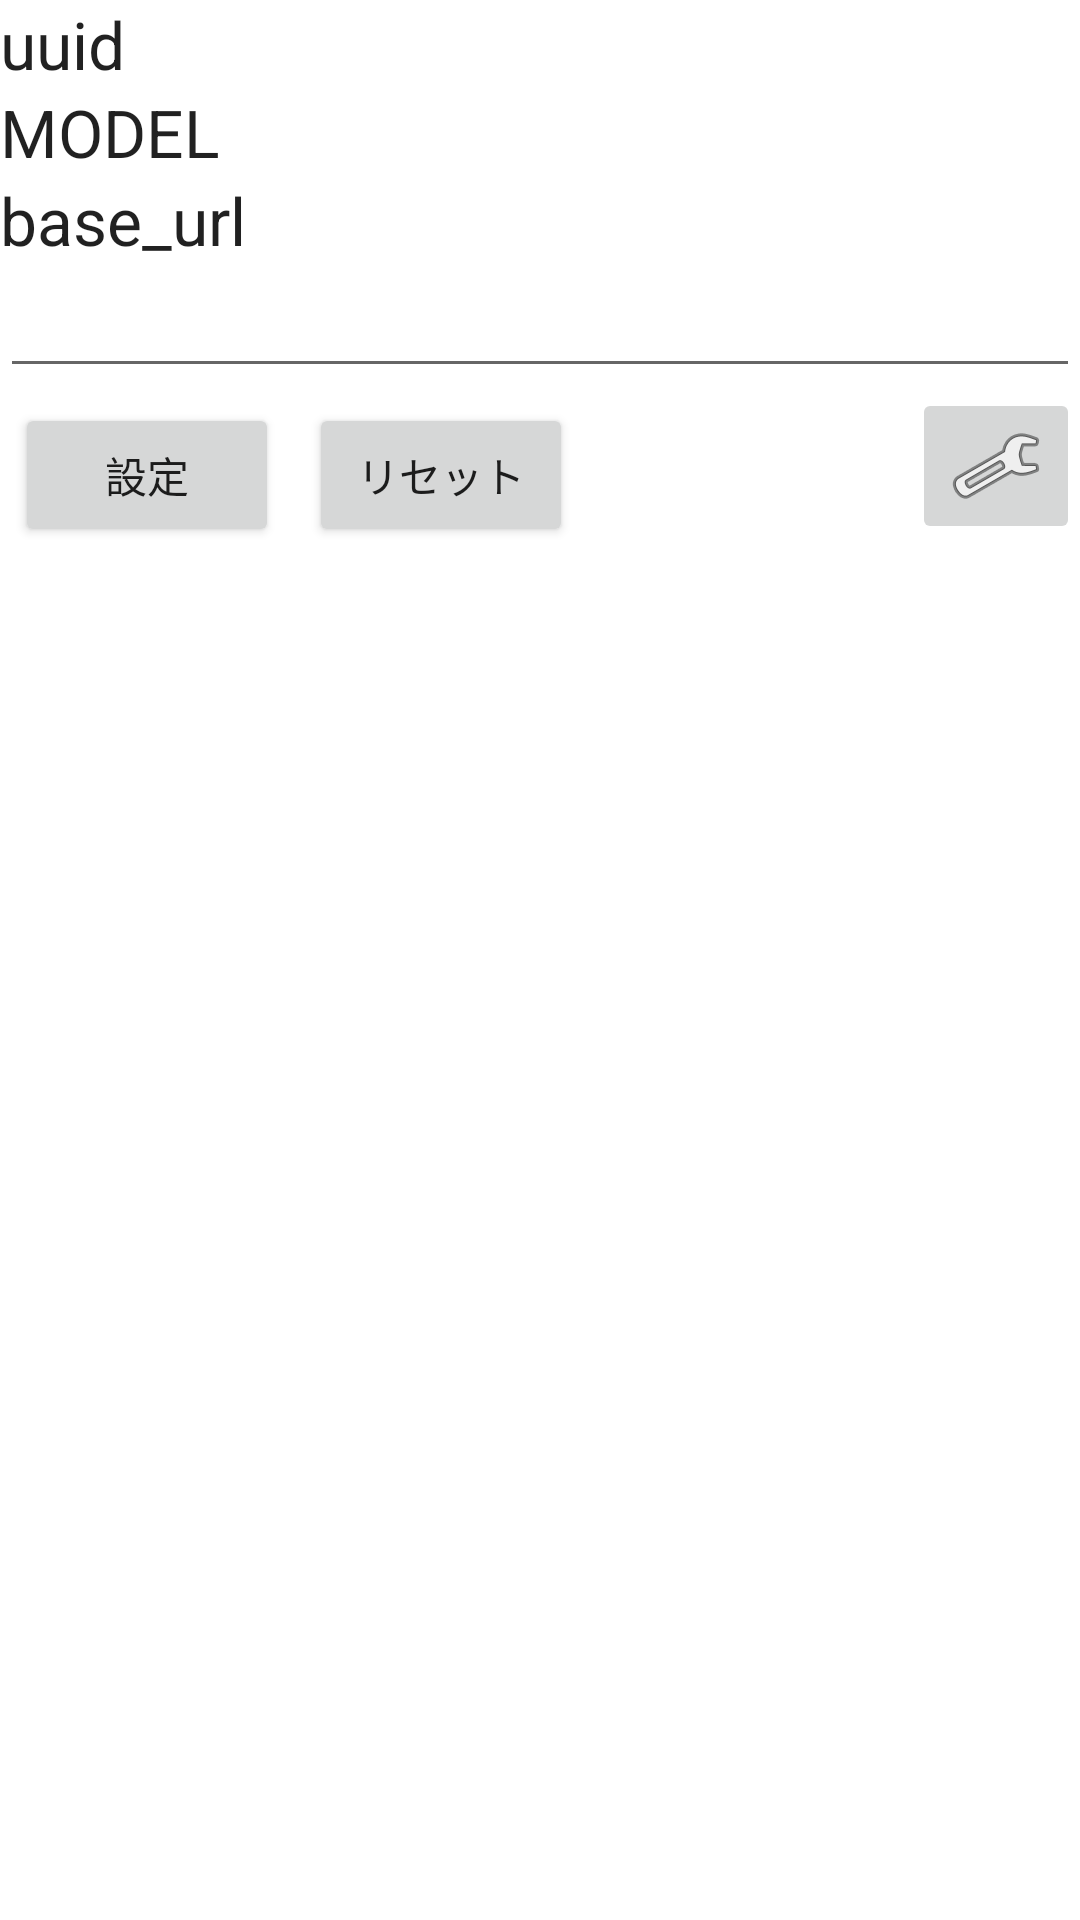

Icons on this 1080 × 1920 Android screen, each with its box as (x1, y1, x2, y2):
manage: (924, 406, 1068, 526)
